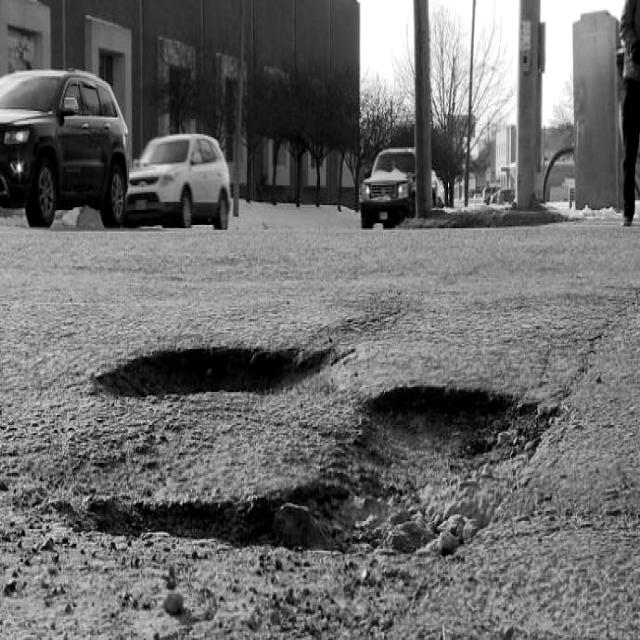pathole: (48, 382, 601, 640), (52, 319, 336, 431)
